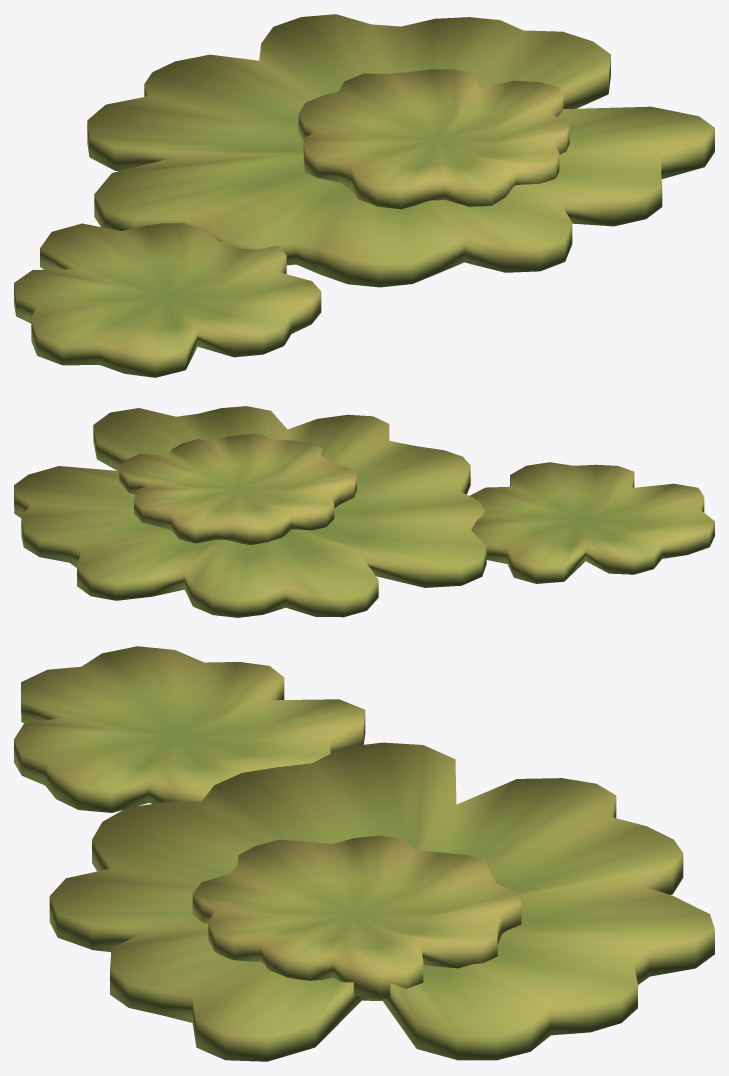
The model's file is lichen.lod0.glb.
3 renders of one model, top to bottom at view 1: azimuth 30°, elevation 25°; view 2: azimuth 150°, elevation 25°; view 3: azimuth 270°, elevation 25°, orthographic. The views are drawn at different scales.
Parts seen in each view (by area): view 1: lichen_s1_lod0; view 2: lichen_s1_lod0; view 3: lichen_s1_lod0.
Boxes of the visible parts, x1,y1,x2,y2 form: lichen_s1_lod0: (14,14,714,377); lichen_s1_lod0: (14,406,714,617); lichen_s1_lod0: (14,646,714,1061).
Bounding box in the file's own units: 0.3767 × 0.0184 × 0.2844.
